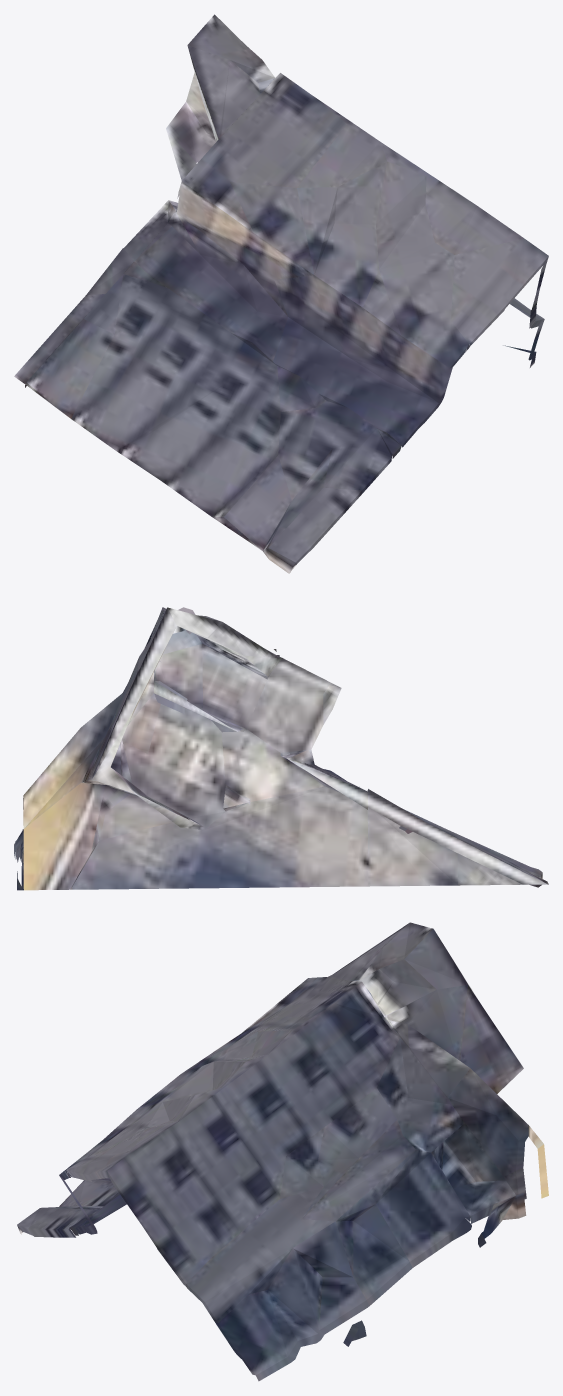
The picture shows the model from 3 angles, top to bottom: view 1: azimuth 30°, elevation 25°; view 2: azimuth 150°, elevation 25°; view 3: azimuth 270°, elevation 25°; orthographic projection. The views are drawn at different scales.
Bounding box in the file's own units: 31.93 × 22.79 × 29.62.
Materials: 1 (1 with a texture image).
